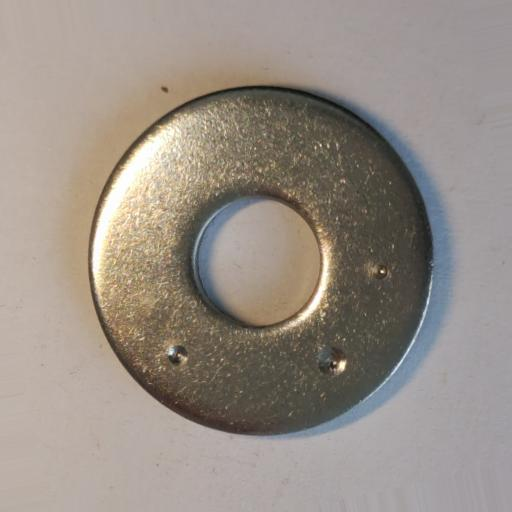circular_cavity: (316, 346, 346, 375), (167, 344, 188, 366), (373, 265, 388, 280)
